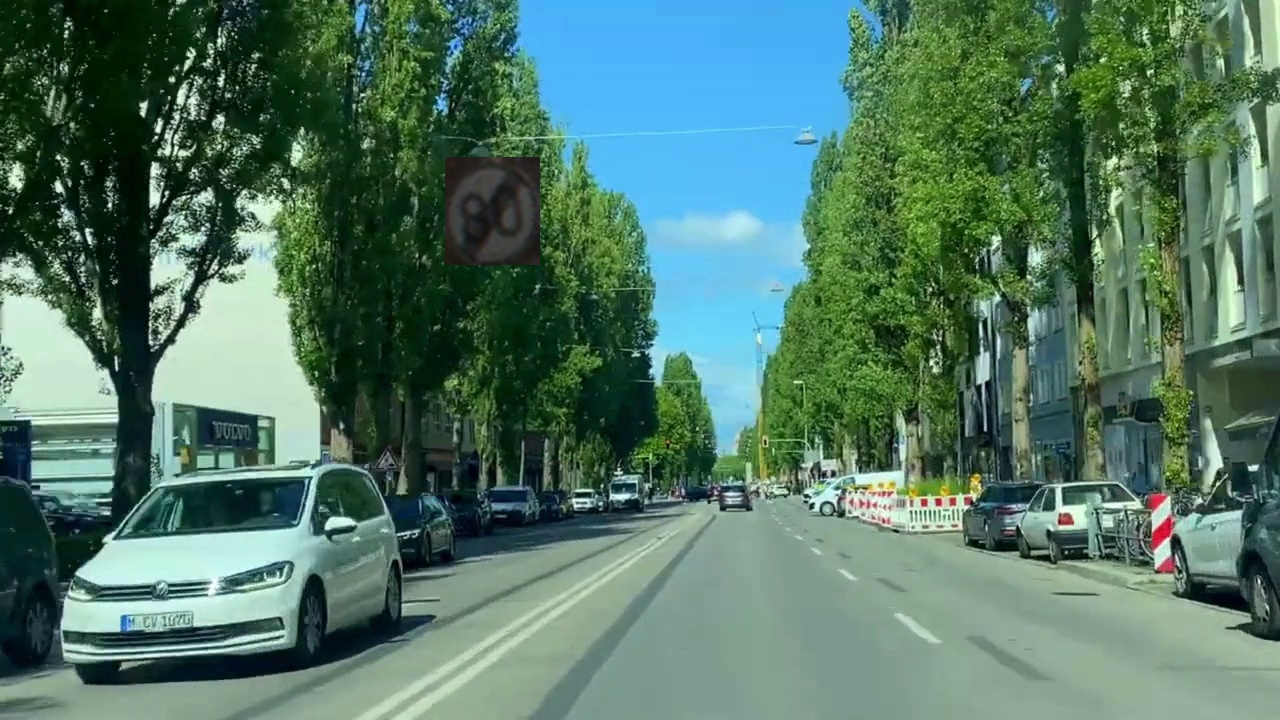End Speed 80: (445, 157, 540, 265)
